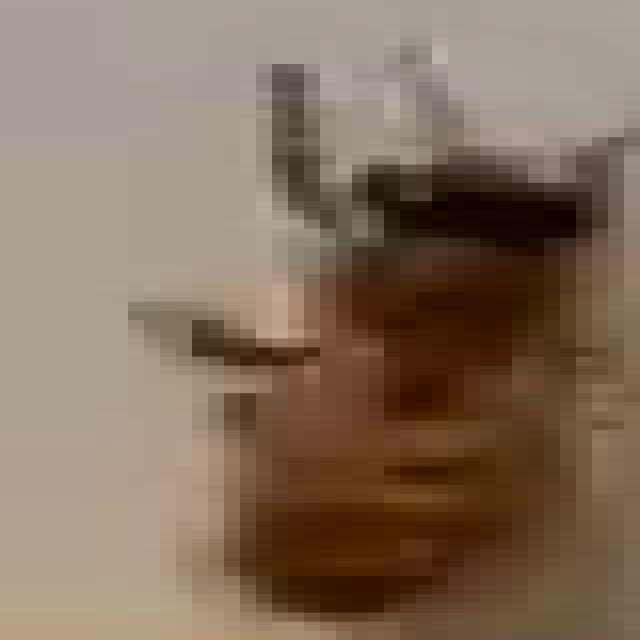honeybee: (181, 66, 614, 639)
